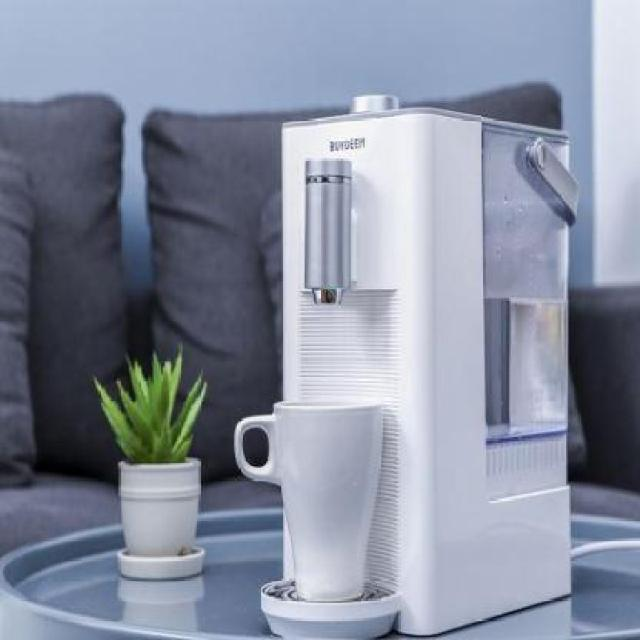cooler: (280, 92, 573, 640)
